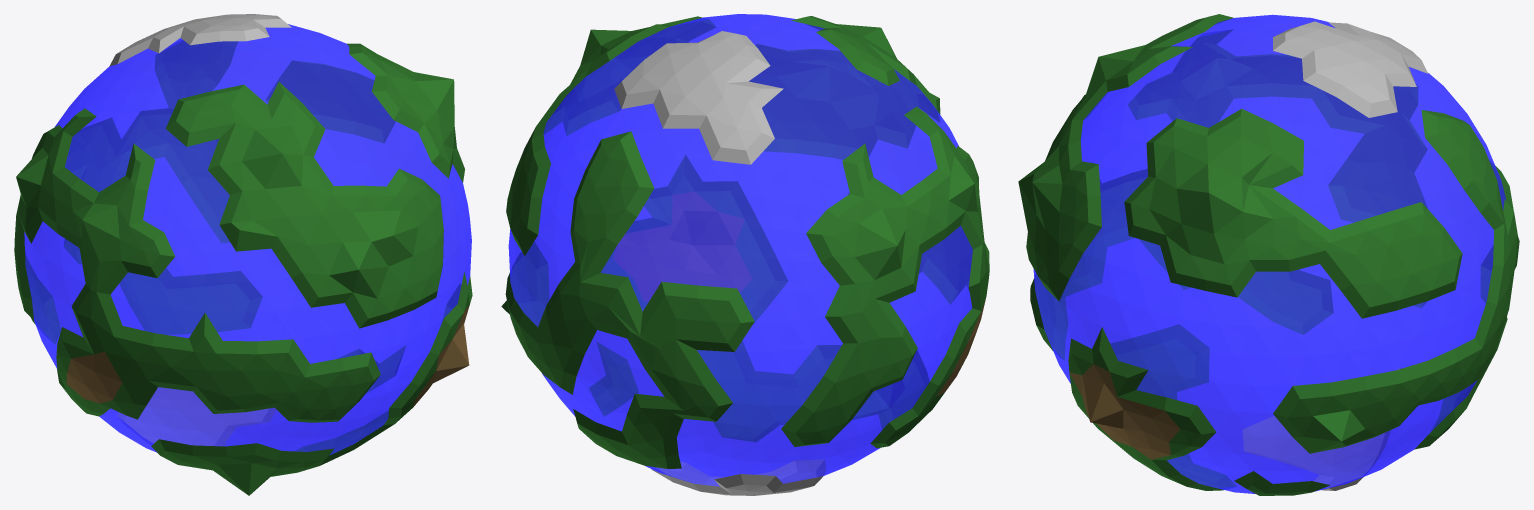
Rendered from Terra.fbx.
3 renders of one model, left to right at view 1: azimuth 30°, elevation 25°; view 2: azimuth 150°, elevation 25°; view 3: azimuth 270°, elevation 25°, orthographic. The views are drawn at different scales.
Visible parts, largest first — view 1: Icosphere; view 2: Icosphere; view 3: Icosphere.
Boxes of the visible parts, x1,y1,x2,y2 form: Icosphere: (14,14,472,495); Icosphere: (501,14,989,495); Icosphere: (1018,14,1519,495).
Bounding box in the file's own units: 986 × 992 × 1013.
